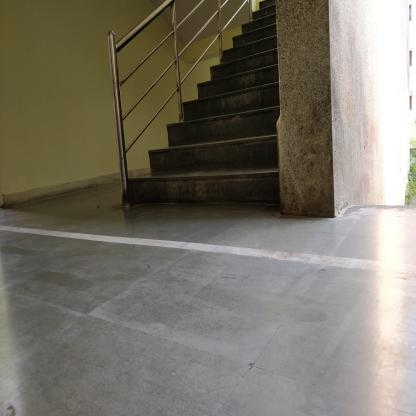stairs: (215, 65, 276, 219)
